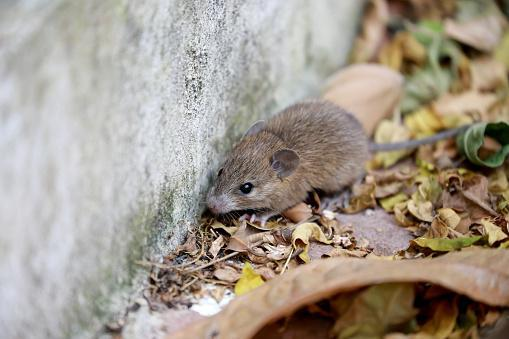rat: (205, 100, 471, 213)
